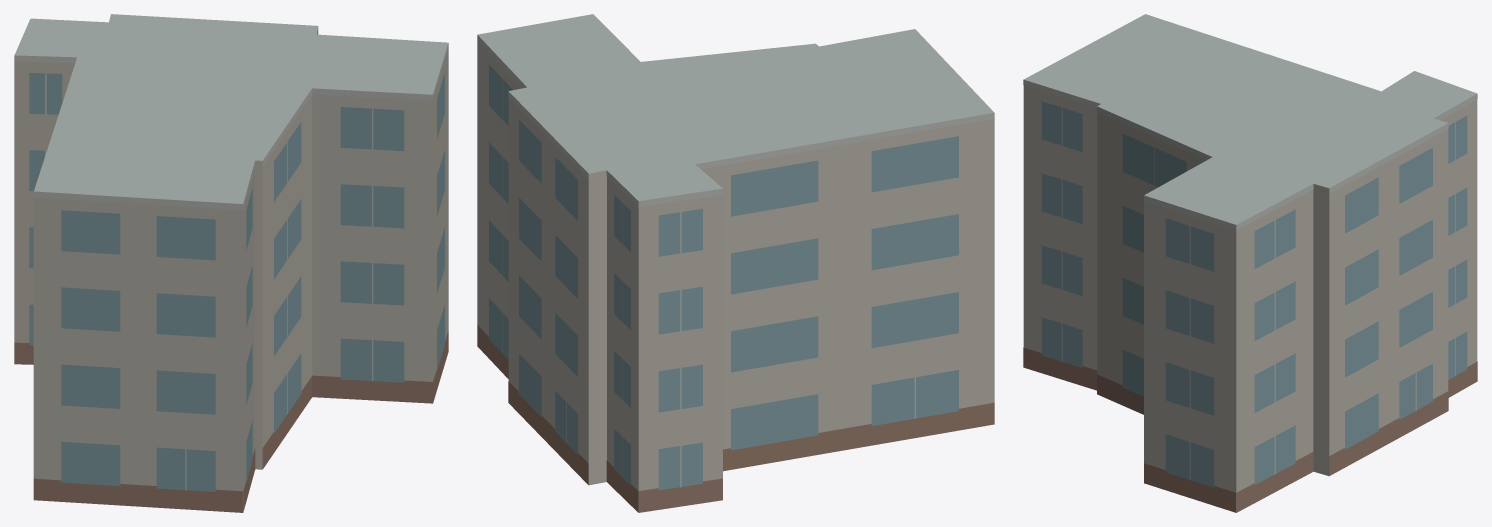
The model's file is survey-upis-32738535.glb.
The picture shows the model from 3 angles, left to right: view 1: azimuth 30°, elevation 25°; view 2: azimuth 150°, elevation 25°; view 3: azimuth 270°, elevation 25°; orthographic projection. The views are drawn at different scales.
Visible parts, largest first — view 1: survey-upis-32738535.tmp; view 2: survey-upis-32738535.tmp; view 3: survey-upis-32738535.tmp.
Part boxes in pixels (x1=…): survey-upis-32738535.tmp: x1=14, y1=14, x2=448, y2=512; survey-upis-32738535.tmp: x1=477, y1=14, x2=994, y2=512; survey-upis-32738535.tmp: x1=1023, y1=14, x2=1477, y2=512.
Bounding box in the file's own units: 19.81 × 12.6 × 18.01.
